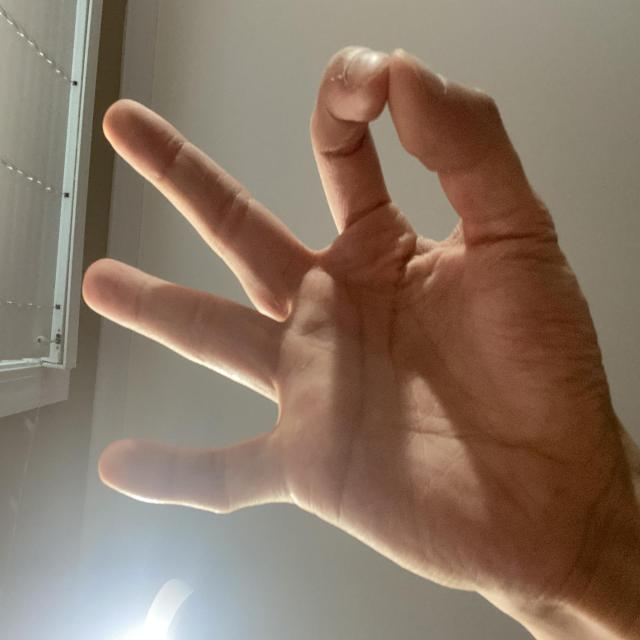F: (19, 106, 448, 640)
